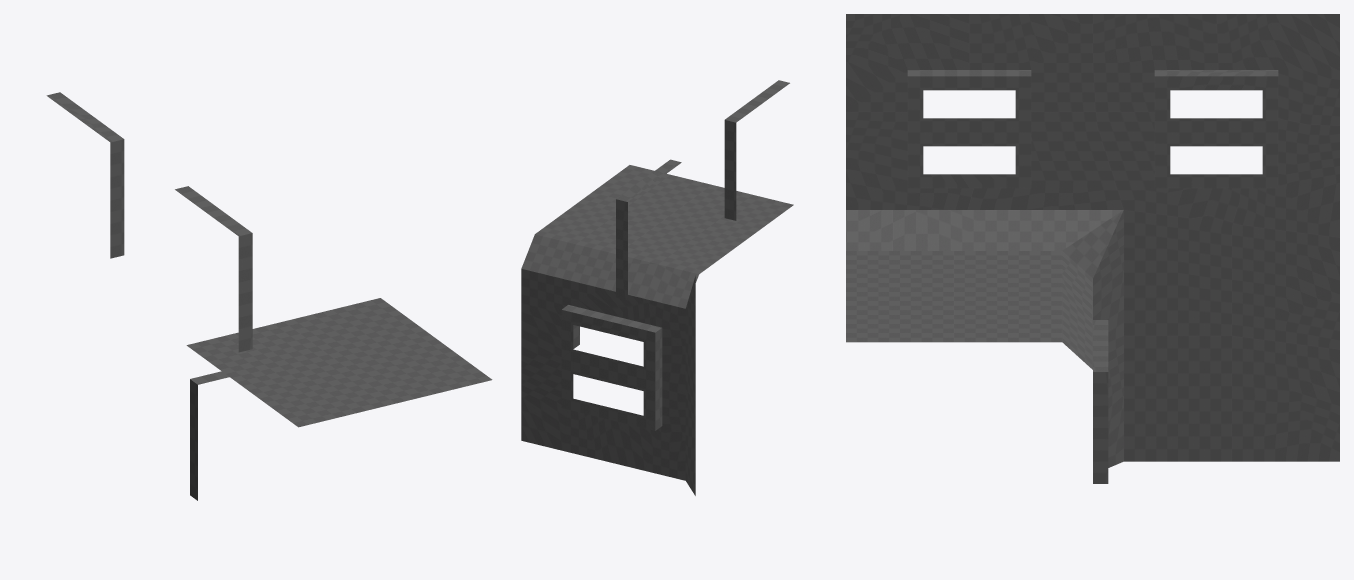
The picture shows the model from 3 angles, left to right: view 1: azimuth 30°, elevation 25°; view 2: azimuth 150°, elevation 25°; view 3: azimuth 270°, elevation 25°; orthographic projection. The views are drawn at different scales.
Parts seen in each view (by area): view 1: 3; view 2: 3; view 3: 3.
Part boxes in pixels (<box>): 3: <box>46,92,492,500</box>; 3: <box>521,80,793,495</box>; 3: <box>846,14,1339,483</box>.
Size of the model in its own units: 2 by 4 by 4.
Materials: 2 (2 with a texture image).
